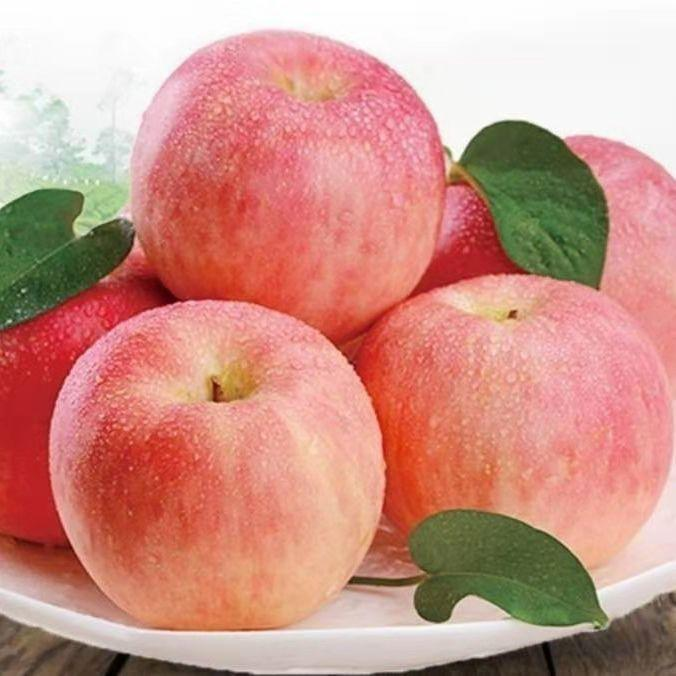apple: (354, 274, 671, 626), (45, 299, 382, 630), (132, 32, 456, 347)
